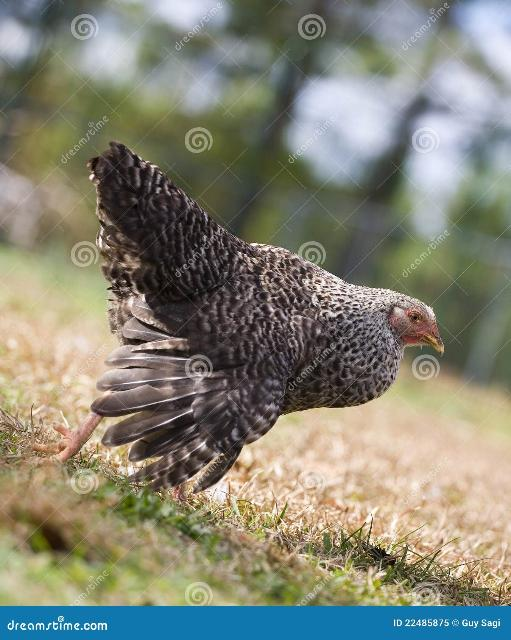Chicken: (35, 140, 445, 494)
